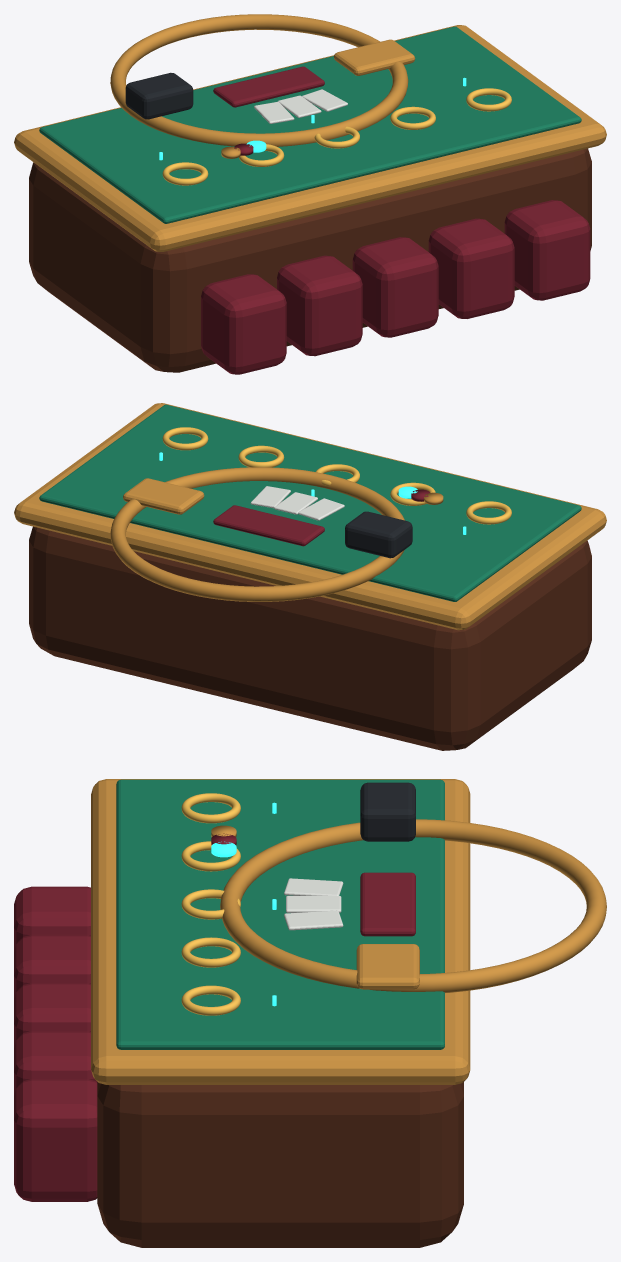
File: BHC_PROP_BLACKJACK.fbx
3 renders of one model, top to bottom at view 1: azimuth 30°, elevation 25°; view 2: azimuth 150°, elevation 25°; view 3: azimuth 270°, elevation 25°, orthographic. The views are drawn at different scales.
Parts seen in each view (by area): view 1: SM_BHC_Blackjack_Felt, SM_BHC_Blackjack_Base, SM_BHC_Blackjack_Tabletop, SM_BHC_Blackjack_Dealer_Rail, SM_BHC_Blackjack_Seat_00, SM_BHC_Blackjack_Seat_02, SM_BHC_Blackjack_Seat_04, SM_BHC_Blackjack_Seat_03, SM_BHC_Blackjack_Seat_01, SM_BHC_Blackjack_Shoe, SM_BHC_Blackjack_Dealer_Pad, SM_BHC_Blackjack_Discard_Tray (+6 smaller); view 2: SM_BHC_Blackjack_Base, SM_BHC_Blackjack_Felt, SM_BHC_Blackjack_Tabletop, SM_BHC_Blackjack_Dealer_Rail, SM_BHC_Blackjack_Shoe, SM_BHC_Blackjack_Dealer_Pad, SM_BHC_Blackjack_Discard_Tray, SM_BHC_Blackjack_Chip_Ring_00, SM_BHC_Blackjack_Chip_Ring_04, SM_BHC_Blackjack_Chip_Ring_03, SM_BHC_Blackjack_Card_00, SM_BHC_Blackjack_Card_01 (+2 smaller); view 3: SM_BHC_Blackjack_Felt, SM_BHC_Blackjack_Base, SM_BHC_Blackjack_Tabletop, SM_BHC_Blackjack_Dealer_Rail, SM_BHC_Blackjack_Seat_04, SM_BHC_Blackjack_Seat_00, SM_BHC_Blackjack_Seat_01, SM_BHC_Blackjack_Seat_03, SM_BHC_Blackjack_Seat_02, SM_BHC_Blackjack_Dealer_Pad, SM_BHC_Blackjack_Shoe, SM_BHC_Blackjack_Discard_Tray (+8 smaller).
Boxes of the visible parts, x1,y1,x2,y2 form: SM_BHC_Blackjack_Felt: (39, 26, 581, 223); SM_BHC_Blackjack_Base: (29, 148, 591, 372); SM_BHC_Blackjack_Tabletop: (14, 25, 606, 251); SM_BHC_Blackjack_Dealer_Rail: (110, 14, 408, 146); SM_BHC_Blackjack_Seat_00: (201, 274, 286, 374); SM_BHC_Blackjack_Seat_02: (352, 237, 438, 337); SM_BHC_Blackjack_Seat_04: (504, 200, 590, 300); SM_BHC_Blackjack_Seat_03: (428, 218, 514, 318); SM_BHC_Blackjack_Seat_01: (277, 255, 362, 356); SM_BHC_Blackjack_Shoe: (125, 72, 193, 119); SM_BHC_Blackjack_Dealer_Pad: (213, 66, 324, 107); SM_BHC_Blackjack_Discard_Tray: (334, 39, 415, 75); SM_BHC_Blackjack_Base: (29, 526, 591, 750); SM_BHC_Blackjack_Felt: (39, 404, 581, 601); SM_BHC_Blackjack_Tabletop: (14, 403, 606, 630); SM_BHC_Blackjack_Dealer_Rail: (110, 467, 404, 601); SM_BHC_Blackjack_Shoe: (345, 511, 412, 558); SM_BHC_Blackjack_Dealer_Pad: (213, 505, 324, 546); SM_BHC_Blackjack_Discard_Tray: (123, 478, 204, 514); SM_BHC_Blackjack_Chip_Ring_00: (466, 501, 511, 524); SM_BHC_Blackjack_Chip_Ring_04: (162, 427, 208, 450); SM_BHC_Blackjack_Chip_Ring_03: (238, 445, 284, 467); SM_BHC_Blackjack_Card_00: (298, 498, 344, 520); SM_BHC_Blackjack_Card_01: (274, 492, 317, 514); SM_BHC_Blackjack_Felt: (116, 779, 444, 1049); SM_BHC_Blackjack_Base: (97, 1082, 463, 1247); SM_BHC_Blackjack_Tabletop: (91, 779, 470, 1084); SM_BHC_Blackjack_Dealer_Rail: (220, 819, 606, 992); SM_BHC_Blackjack_Seat_04: (14, 1079, 97, 1201); SM_BHC_Blackjack_Seat_00: (14, 886, 90, 951); SM_BHC_Blackjack_Seat_01: (14, 934, 90, 999); SM_BHC_Blackjack_Seat_03: (14, 1031, 97, 1095); SM_BHC_Blackjack_Seat_02: (14, 983, 90, 1047); SM_BHC_Blackjack_Dealer_Pad: (360, 872, 415, 936); SM_BHC_Blackjack_Shoe: (360, 782, 415, 841); SM_BHC_Blackjack_Discard_Tray: (356, 944, 419, 989).
Bounding box in the file's own units: 5.4 × 2.23 × 4.69.
